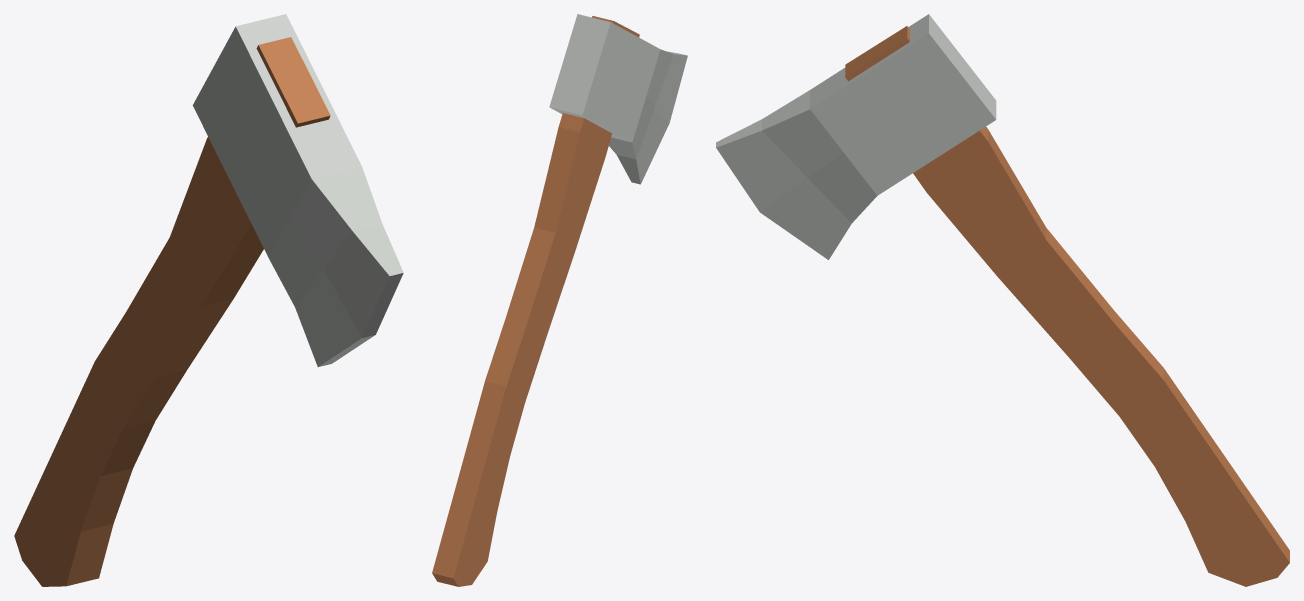
Rendered from hatchet.fbx.
3 views of the same model, side by side, from view 1: azimuth 30°, elevation 25°; view 2: azimuth 150°, elevation 25°; view 3: azimuth 270°, elevation 25° (orthographic). The views are drawn at different scales.
Parts seen in each view (by area): view 1: Cube; view 2: Cube; view 3: Cube.
Boxes of the visible parts, x1=… form: Cube: x1=14, y1=14, x2=403, y2=586; Cube: x1=432, y1=14, x2=687, y2=586; Cube: x1=716, y1=14, x2=1289, y2=586.
Size of the model in its own units: 36.39 by 489 by 457.
